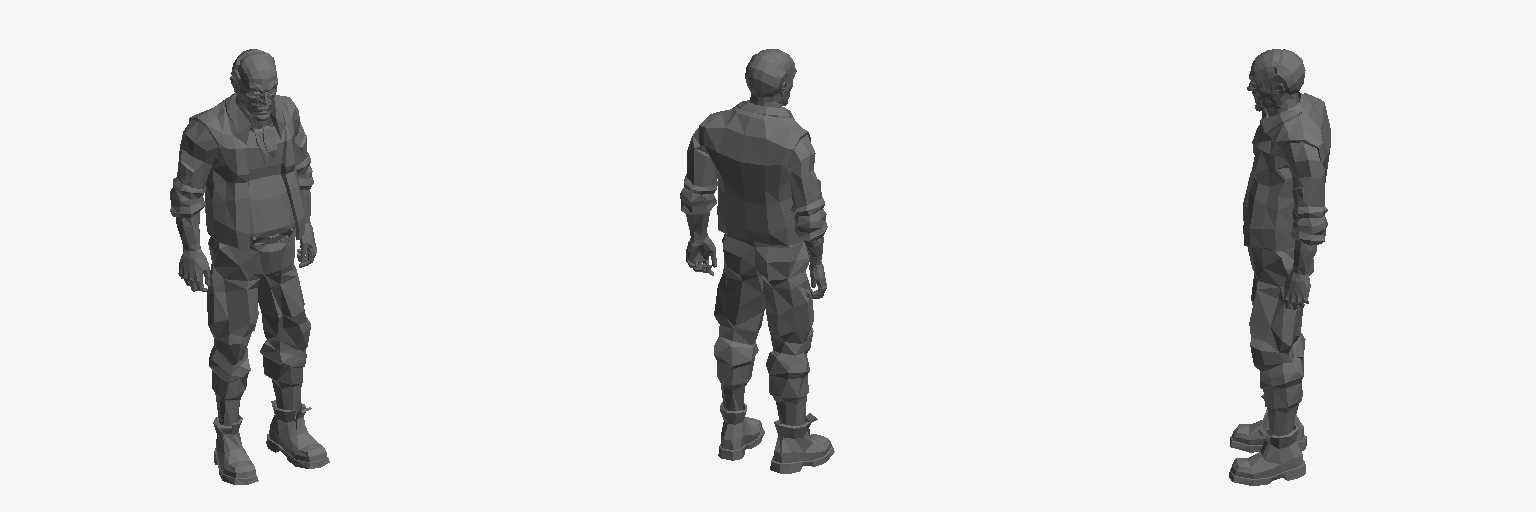
File: Alec.obj
3 views of the same model, side by side, from view 1: azimuth 30°, elevation 25°; view 2: azimuth 150°, elevation 25°; view 3: azimuth 270°, elevation 25° (orthographic).
Size of the model in its own units: 1.36 by 3.73 by 0.8428.